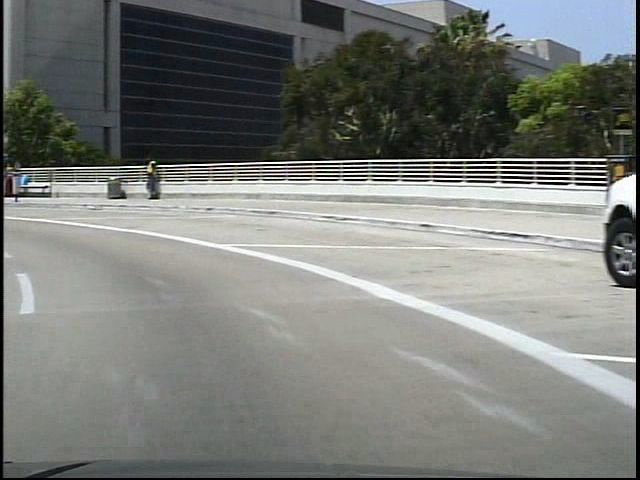person: (137, 153, 157, 203)
